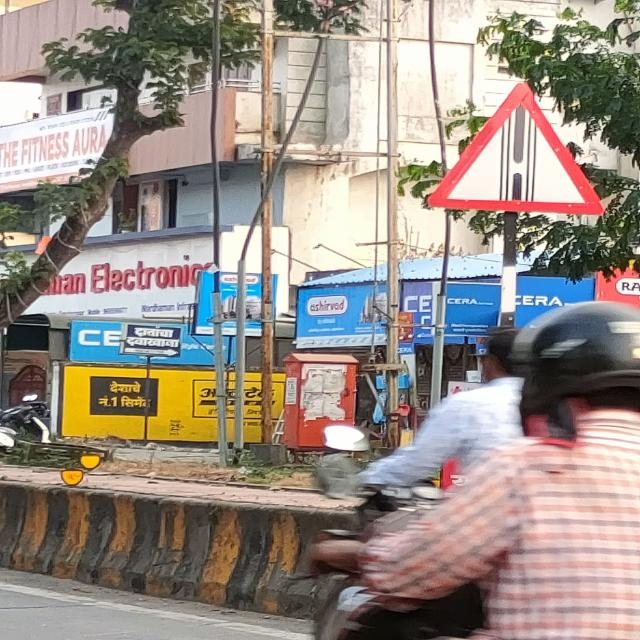ferry: (425, 82, 609, 215)
